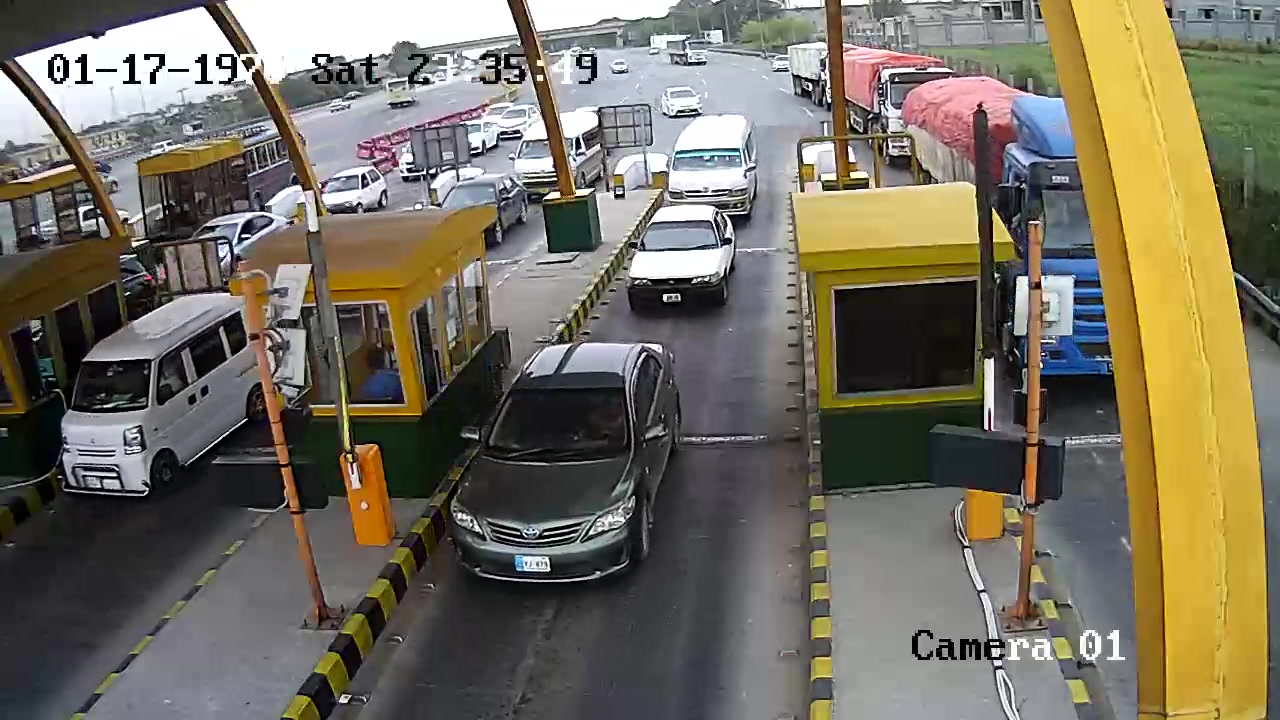F1: (449, 337, 690, 596), (623, 202, 738, 319)
